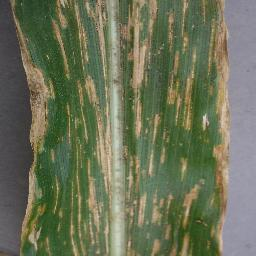Gray_Leaf_Spot: (198, 0, 234, 256), (82, 81, 114, 256), (56, 0, 114, 79), (125, 196, 197, 256), (17, 153, 48, 256), (121, 0, 145, 132), (25, 73, 57, 153), (168, 54, 198, 134), (145, 113, 167, 177), (120, 143, 142, 195), (75, 85, 81, 256), (51, 170, 64, 236), (145, 0, 157, 70), (163, 7, 178, 53), (180, 0, 190, 54), (8, 0, 23, 34), (70, 163, 75, 256), (64, 101, 73, 142), (17, 35, 31, 60), (178, 154, 190, 181), (181, 183, 197, 198), (20, 62, 41, 73), (48, 13, 56, 32), (47, 152, 58, 161)
